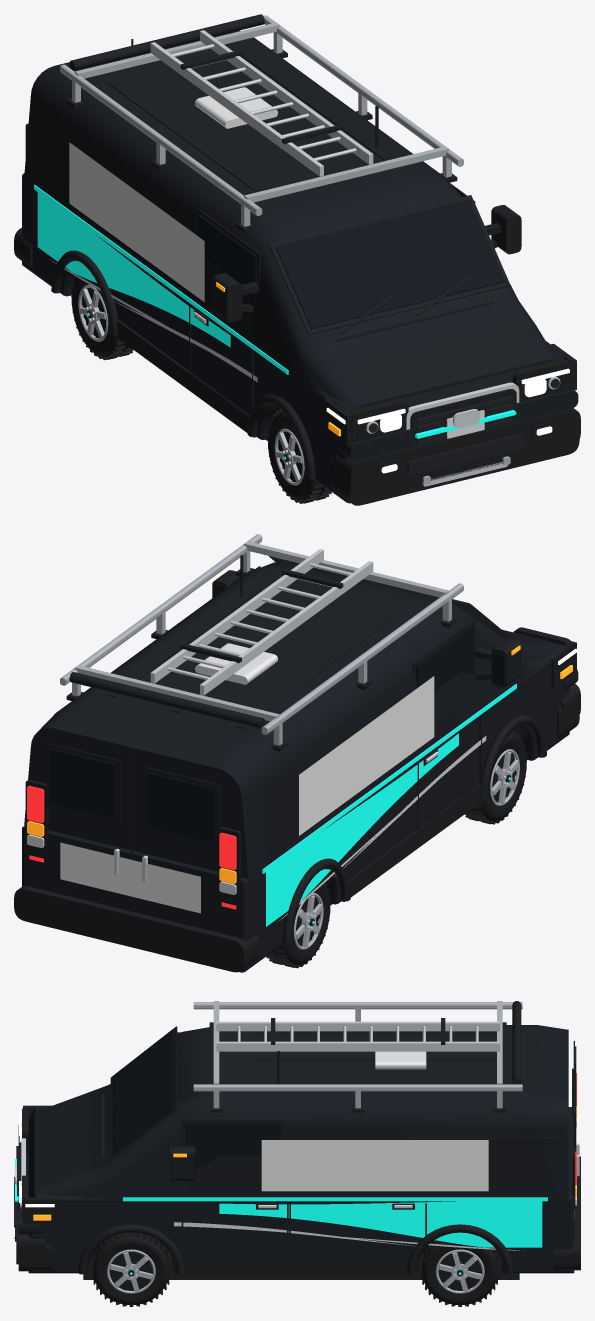
Rendered from compact-van.glb.
3 views of the same model, one above another, from view 1: azimuth 30°, elevation 25°; view 2: azimuth 150°, elevation 25°; view 3: azimuth 270°, elevation 25° (orthographic). The views are drawn at different scales.
Visible parts, largest first — view 1: body_paint, body_plastic-dark, body_glass, rack_steel, body_decal-left, body_accent, rack_aluminum, rack_plastic-dark, body_underbody, body_white, wheel_fl_rubber, body_chrome (+4 smaller); view 2: body_paint, body_plastic-dark, body_glass, rack_steel, body_decal-left, body_accent, rack_aluminum, body_decal-rear, rack_plastic-dark, body_white, wheel_fl_rubber, wheel_rl_rubber (+4 smaller); view 3: body_paint, body_plastic-dark, body_decal-right, body_accent, body_glass, rack_steel, rack_aluminum, wheel_fr_rubber, wheel_rr_rubber, body_underbody, body_white, rack_plastic-dark (+5 smaller).
Boxes of the visible parts, x1,y1,x2,y2 form: body_paint: (22,30,578,503); body_plastic-dark: (14,39,580,505); body_glass: (198,199,559,432); rack_steel: (60,15,463,226); body_decal-left: (69,142,204,301); body_accent: (34,184,516,438); rack_aluminum: (150,30,373,176); rack_plastic-dark: (66,14,457,232); body_underbody: (82,295,525,474); body_white: (49,87,484,438); wheel_fl_rubber: (267,409,331,503); body_chrome: (194,312,560,433); body_paint: (22,561,578,972); body_plastic-dark: (14,555,580,972); body_glass: (49,584,504,842); rack_steel: (60,534,463,745); body_decal-left: (299,676,434,835); body_accent: (262,684,516,926); rack_aluminum: (150,549,373,695); body_decal-rear: (60,842,200,913); rack_plastic-dark: (66,568,457,751); body_white: (27,643,486,920); wheel_fl_rubber: (464,730,526,824); wheel_rl_rubber: (266,878,330,968); body_paint: (18,1025,574,1273); body_plastic-dark: (15,1026,580,1274); body_decal-right: (261,1140,488,1191); body_accent: (15,1159,547,1247); body_glass: (18,1029,576,1206); rack_steel: (193,1001,522,1108); rack_aluminum: (216,1021,499,1051); wheel_fr_rubber: (91,1232,170,1306); wheel_rr_rubber: (420,1240,499,1306); body_underbody: (14,1148,519,1279); body_white: (16,1051,576,1250); rack_plastic-dark: (209,1001,521,1112).
Size of the model in its own units: 2.53 by 2.33 by 5.
